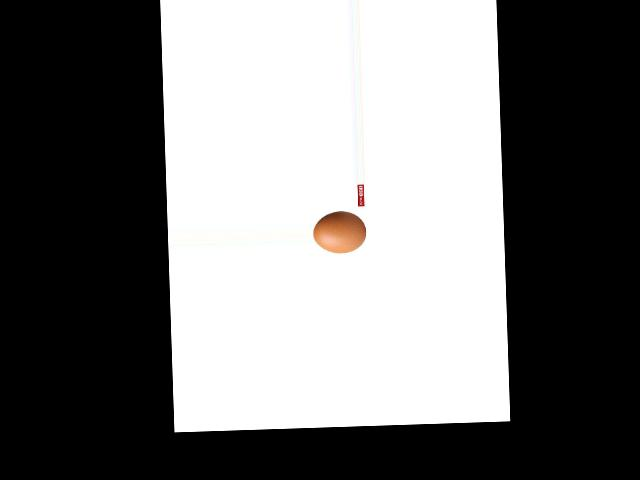egg: (313, 211, 366, 254)
